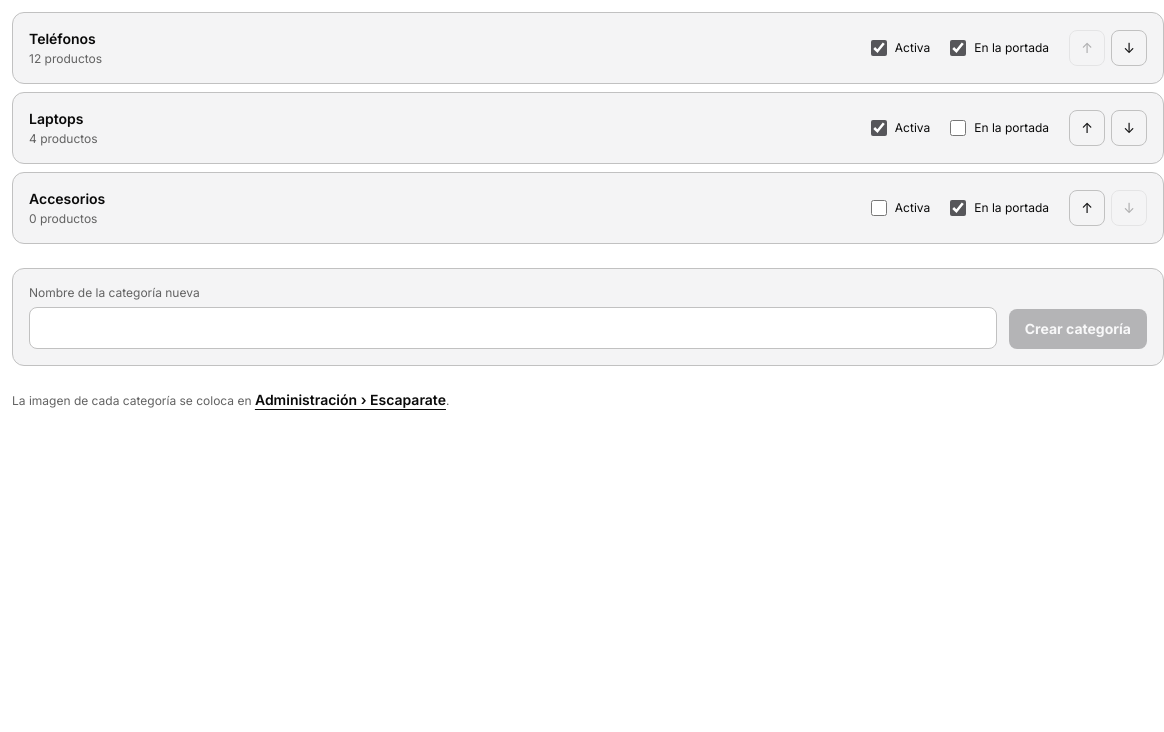
a new category is created by name and appears in the list
Type " Tablets " into the field labelled "Nombre de la categoría nueva" at coordinates (513, 328), box [29,307,997,349]
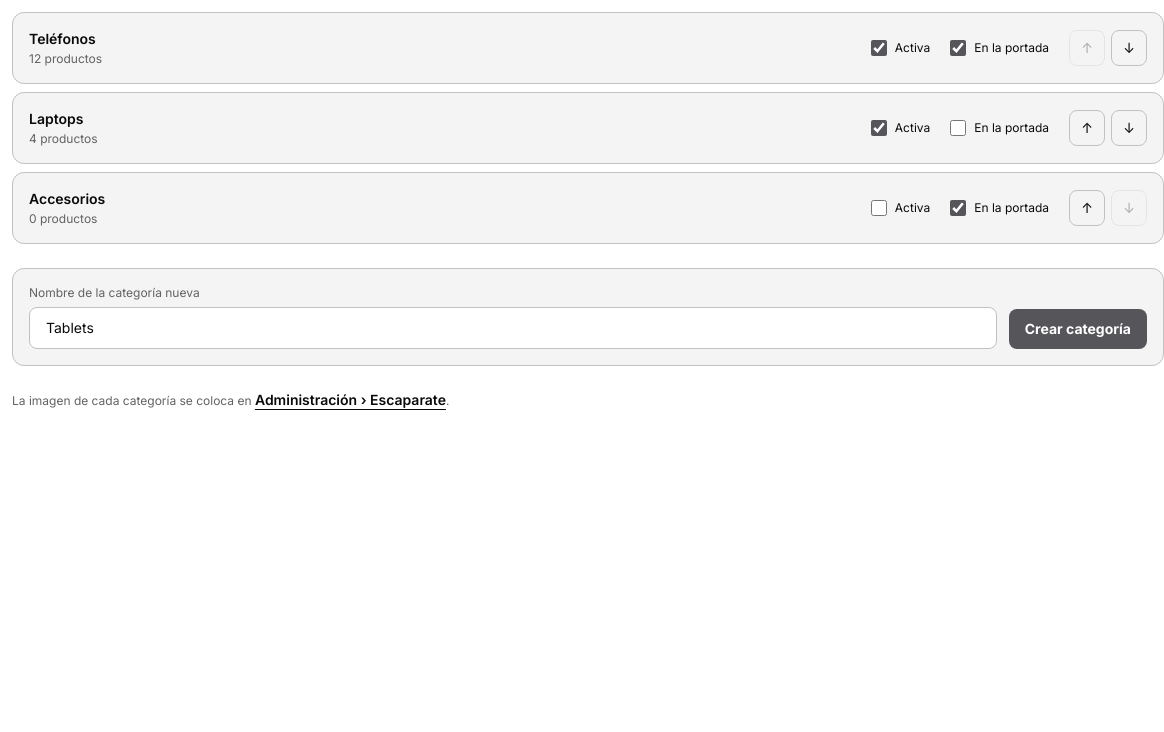
Click the button "Crear categoría" at coordinates (1078, 329), box [1009,309,1147,349]
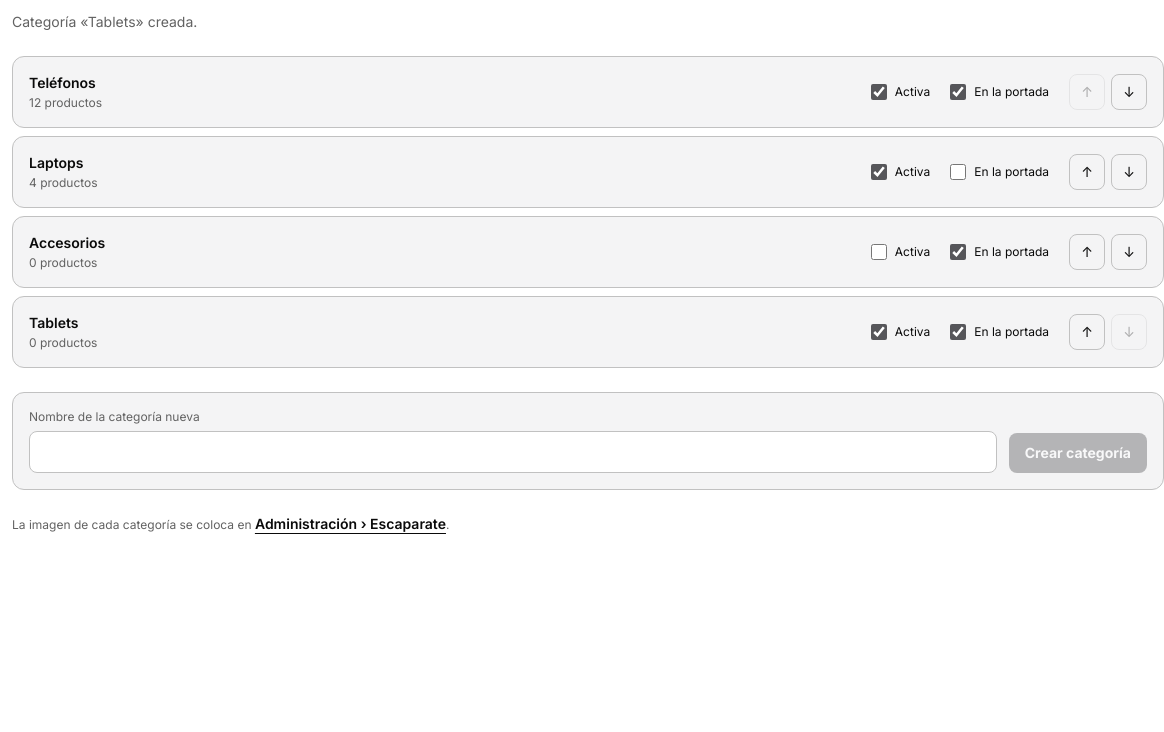
Expected: the heading "Tablets" is shown, [29,314,78,331]
